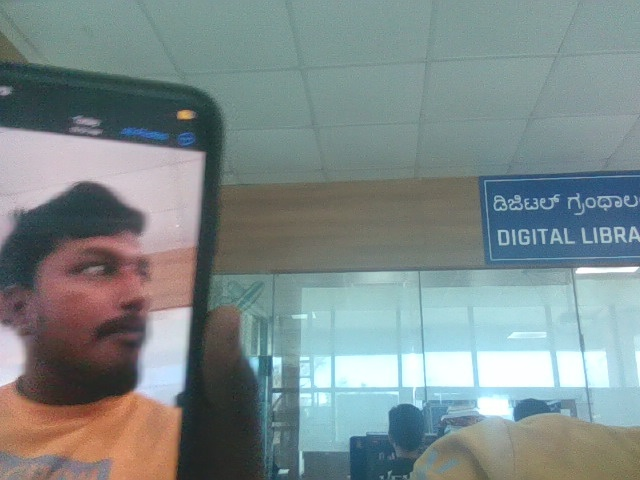fake: (14, 147, 186, 391)
